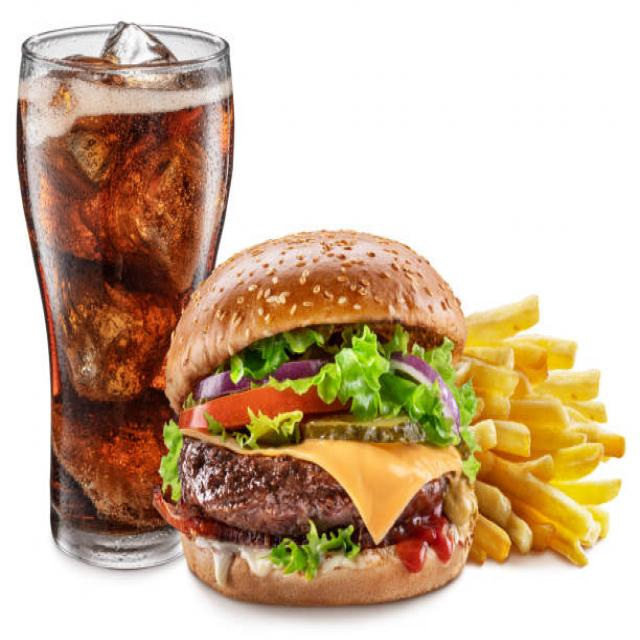burger: (162, 226, 470, 608)
frenchfries: (454, 298, 624, 576)
